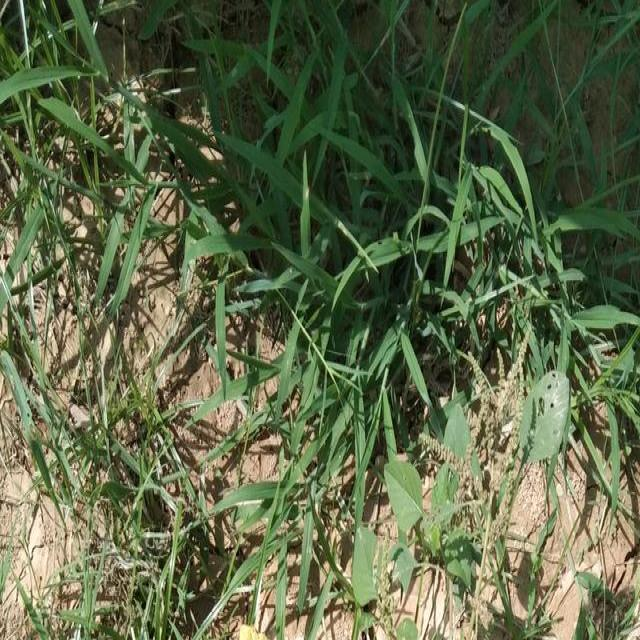weed: (233, 21, 640, 356), (5, 31, 215, 286), (17, 394, 218, 624), (372, 467, 478, 612)
